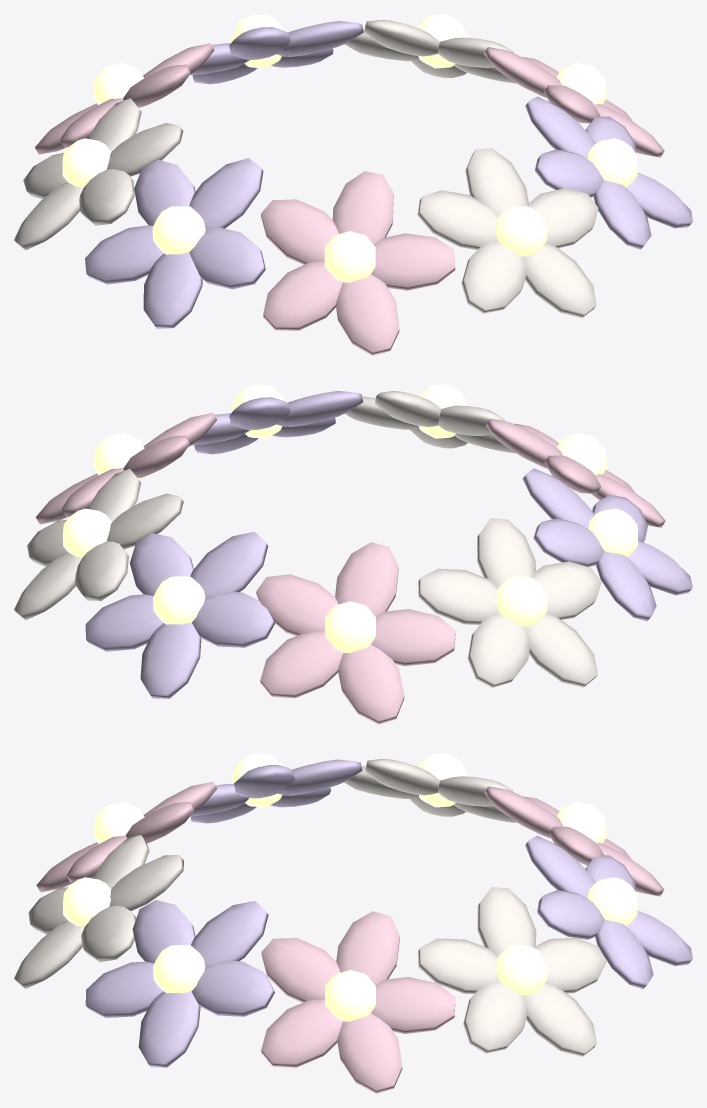
File: flower_crown.glb
The picture shows the model from 3 angles, top to bottom: view 1: azimuth 30°, elevation 25°; view 2: azimuth 150°, elevation 25°; view 3: azimuth 270°, elevation 25°; orthographic projection.
Parts seen in each view (by area): view 1: Petal.033, Petal.034, Petal.030, Petal.032, Petal.038, Petal.039, Petal.037, Petal.025, Petal.029, Petal.026, Petal.031, Petal.028 (+37 smaller); view 2: Petal.018, Petal.019, Petal.015, Petal.014, Petal.022, Petal.010, Petal.023, Petal.017, Petal.024, Petal.016, Petal.011, Petal.013 (+38 smaller); view 3: Petal.003, Petal.004, Petal, Petal.044, Petal.002, Petal.040, Petal.008, Petal.009, Petal.007, Petal.001, Petal.041, Petal.043 (+38 smaller).
Boxes of the visible parts, x1=… form: Petal.033: x1=263, y1=262, x2=342, y2=330; Petal.034: x1=336, y1=274, x2=399, y2=355; Petal.030: x1=371, y1=233, x2=455, y2=290; Petal.032: x1=261, y1=199, x2=338, y2=264; Petal.038: x1=461, y1=241, x2=526, y2=313; Petal.039: x1=523, y1=243, x2=596, y2=317; Petal.037: x1=417, y1=190, x2=498, y2=249; Petal.025: x1=189, y1=227, x2=265, y2=289; Petal.029: x1=143, y1=252, x2=202, y2=328; Petal.026: x1=189, y1=158, x2=263, y2=229; Petal.031: x1=332, y1=171, x2=393, y2=244; Petal.028: x1=85, y1=225, x2=163, y2=284; Petal.018: x1=260, y1=632, x2=342, y2=698; Petal.019: x1=338, y1=644, x2=404, y2=724; Petal.015: x1=371, y1=609, x2=455, y2=666; Petal.014: x1=140, y1=622, x2=201, y2=698; Petal.022: x1=418, y1=568, x2=499, y2=624; Petal.010: x1=192, y1=592, x2=275, y2=647; Petal.023: x1=467, y1=613, x2=530, y2=687; Petal.017: x1=256, y1=574, x2=338, y2=635; Petal.024: x1=525, y1=613, x2=597, y2=687; Petal.016: x1=335, y1=542, x2=398, y2=616; Petal.011: x1=190, y1=531, x2=267, y2=597; Petal.013: x1=85, y1=594, x2=163, y2=651; Petal.003: x1=261, y1=1000, x2=342, y2=1067; Petal.004: x1=337, y1=1013, x2=402, y2=1093; Petal: x1=371, y1=977, x2=455, y2=1033; Petal.044: x1=138, y1=991, x2=200, y2=1067; Petal.002: x1=261, y1=938, x2=340, y2=1002; Petal.040: x1=191, y1=961, x2=274, y2=1016; Petal.008: x1=463, y1=981, x2=527, y2=1053; Petal.009: x1=524, y1=982, x2=596, y2=1056; Petal.007: x1=417, y1=938, x2=499, y2=993; Petal.001: x1=336, y1=911, x2=399, y2=984; Petal.041: x1=191, y1=901, x2=268, y2=966; Petal.043: x1=85, y1=961, x2=162, y2=1017.
Size of the model in its own units: 1.2 by 0.2282 by 1.21.
